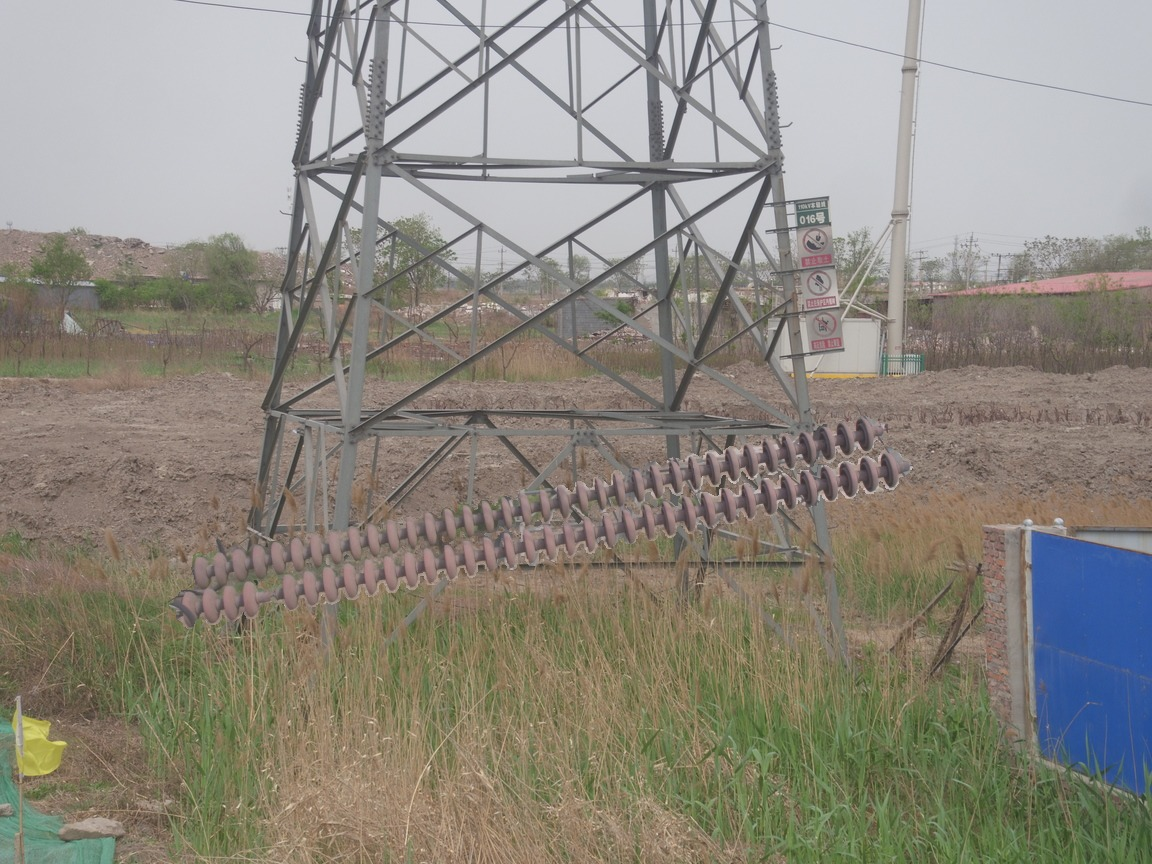defect: (238, 572, 301, 620)
